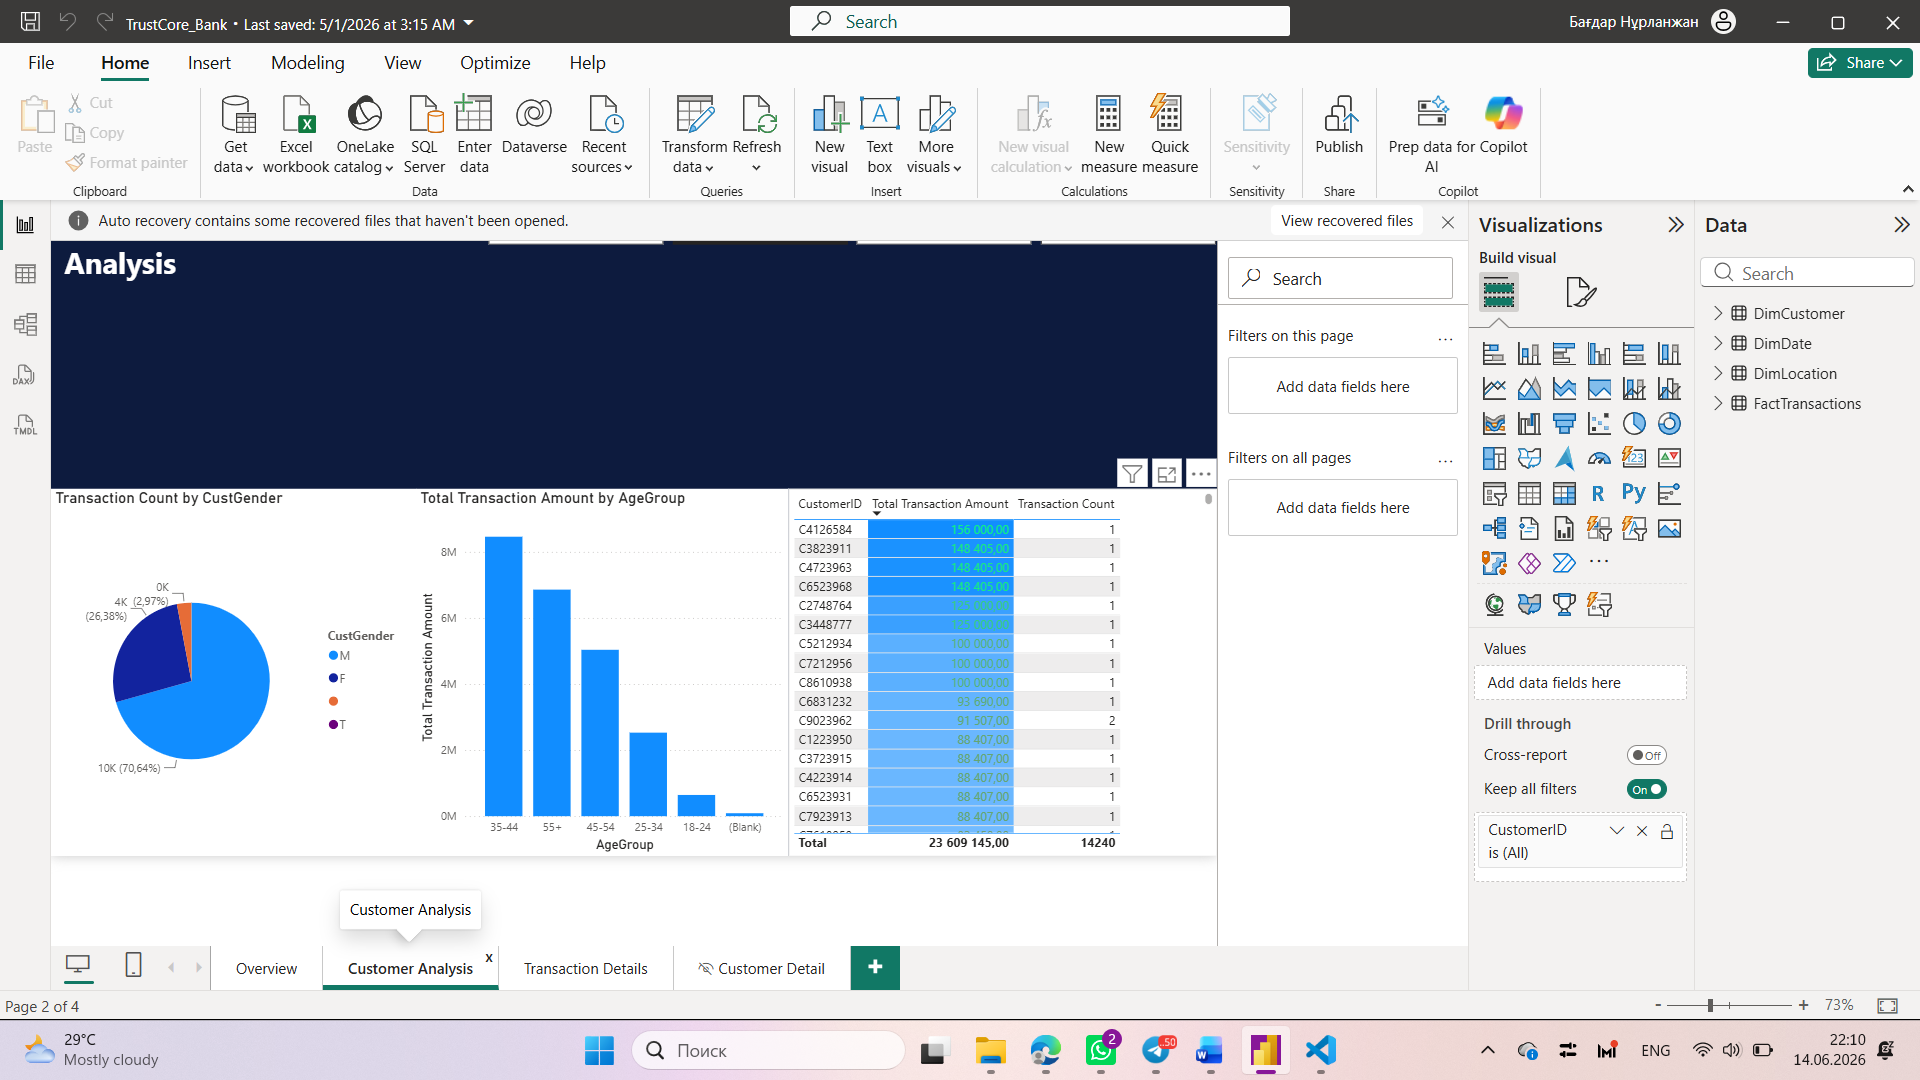

The page's visual inventory and layout, read from the dashboard file:
{"tool":"powerbi","page":{"name":"Customer Analysis","canvas":[1280,720],"ordinal":1},"visuals":[{"type":"textbox","box":[10,0,280,280],"z":0},{"type":"pieChart","fields":{"Category":["DimCustomer.CustGender"],"Y":["FactTransactions.Transaction Count"]},"box":[0,317,400.7,403.4],"z":1000},{"type":"clusteredColumnChart","fields":{"Category":["DimCustomer.AgeGroup"],"Y":["FactTransactions.Total Transaction Amount"]},"box":[400.7,317,408.9,403.4],"z":2000},{"type":"tableEx","fields":{"Values":["FactTransactions.CustomerID","FactTransactions.Total Transaction Amount","FactTransactions.Transaction Count"]},"box":[809.6,317,470.7,403.4],"z":3000},{"type":"actionButton","box":[0,0,100,40],"z":3001},{"type":"pageNavigator","box":[480,0,800,49.4],"z":3002}]}

Visuals, with their boxes on the page's 1280x720 design canvas (x1, y1, x2, y2). These are canvas units, not pixel positions in the 1920x1080 screenshot, which may show the page scaled, cropped or inside an application window:
textbox: (10,0,290,280)
pieChart - DimCustomer.CustGender x FactTransactions.Transaction Count: (0,317,401,720)
clusteredColumnChart - DimCustomer.AgeGroup x FactTransactions.Total Transaction Amount: (401,317,810,720)
tableEx - FactTransactions.CustomerID x FactTransactions.Total Transaction Amount: (810,317,1280,720)
actionButton: (0,0,100,40)
pageNavigator: (480,0,1280,49)
